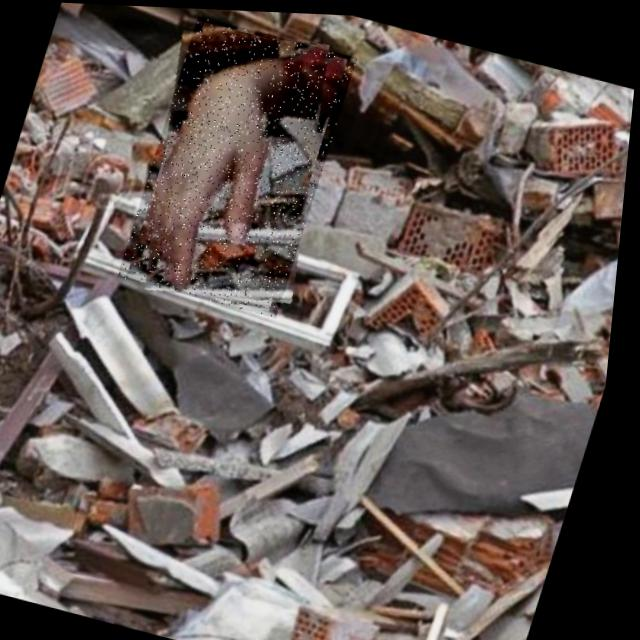Person in Rubble: (119, 11, 360, 317)
